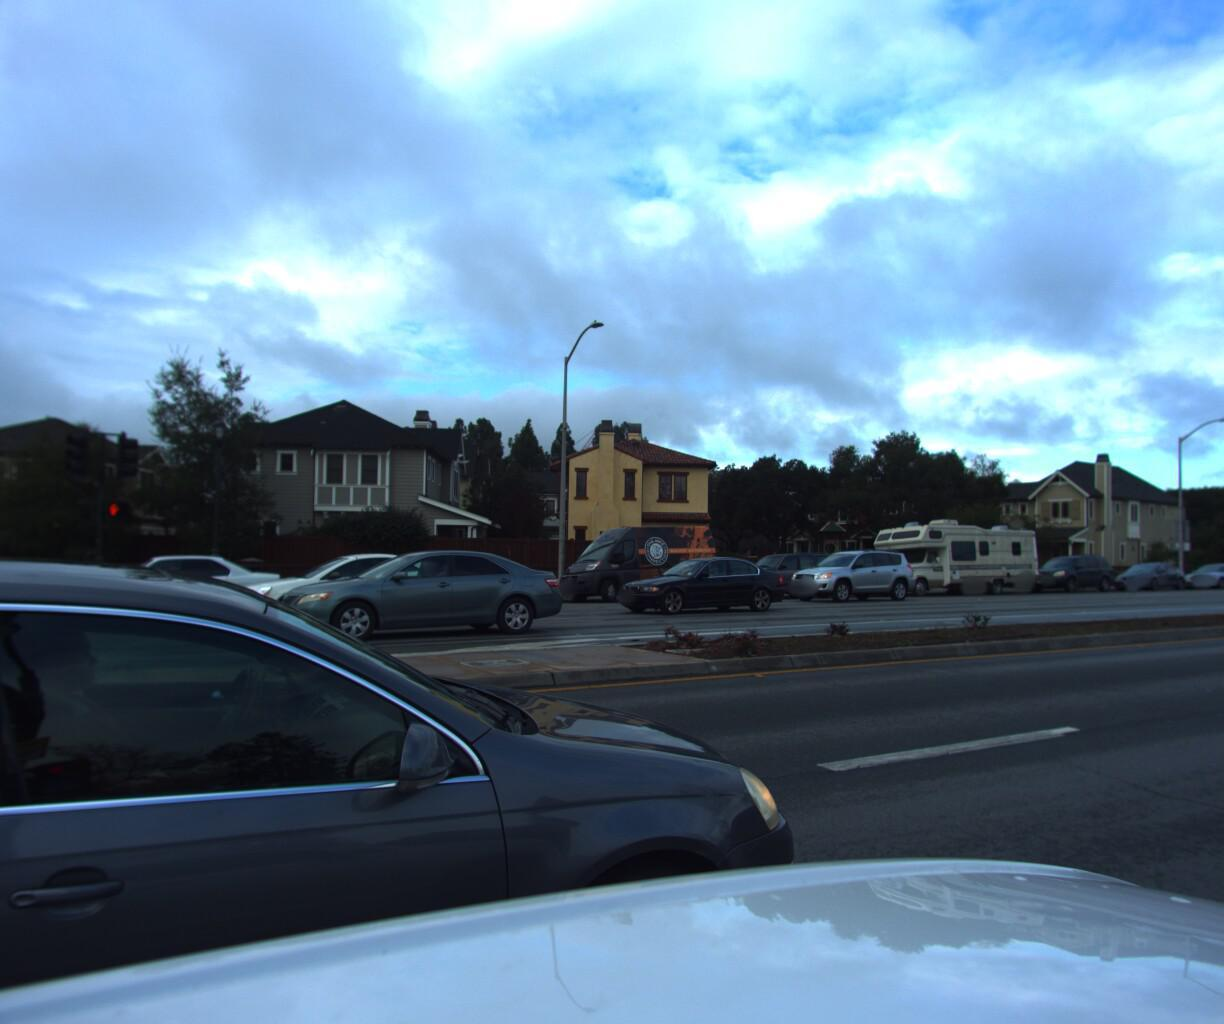car: (0, 577, 870, 1024), (263, 541, 576, 646), (212, 542, 488, 631), (32, 546, 286, 621), (544, 516, 724, 601), (606, 551, 795, 615), (772, 547, 921, 601), (711, 546, 848, 600), (1016, 547, 1120, 591), (1103, 556, 1188, 588), (1169, 557, 1224, 586)
other_vehicle: (853, 510, 1045, 594)
